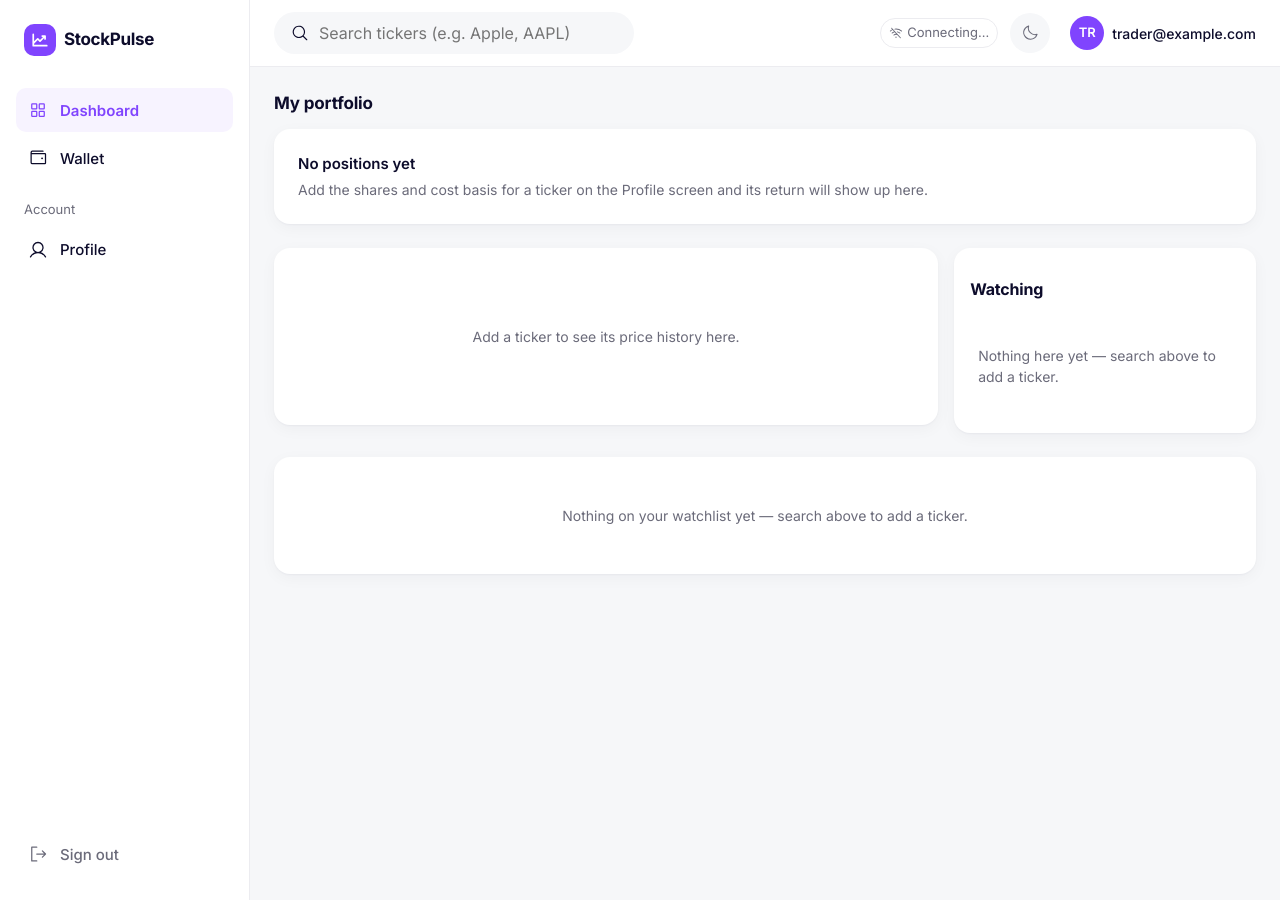
Test: App — search and add to watchlist › adds a searched ticker to the watchlist when clicked
Expected: the text "Nothing on your watchlist yet" is shown, [562, 506, 968, 524]
Step 1. Type "apple" into the field named "search for a stock ticker" → [467, 33], box [317, 21, 617, 45]
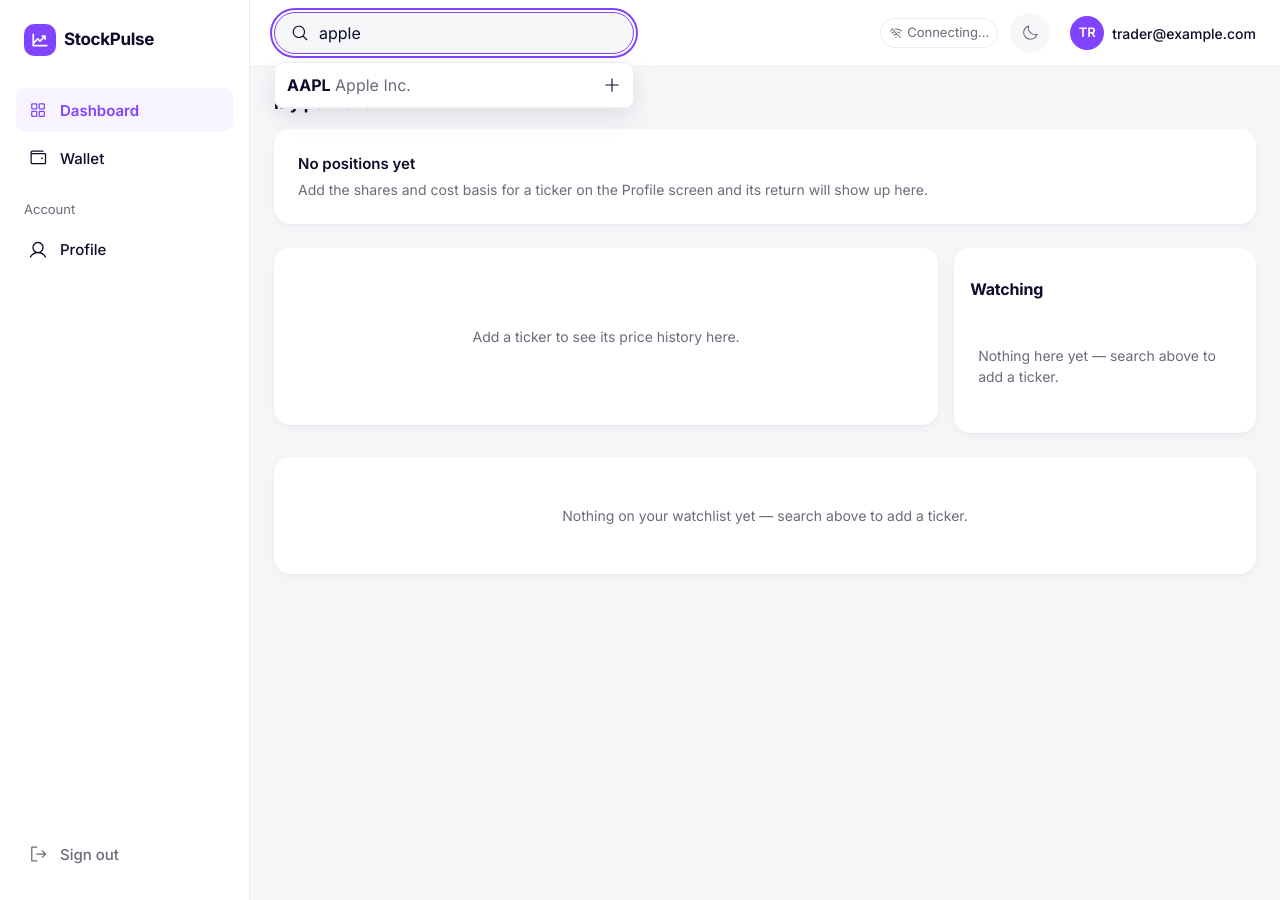
Expected: the button "AAPL Apple Inc." is shown
Step 2. Click the button "AAPL Apple Inc." → [309, 85], box [275, 63, 633, 108]
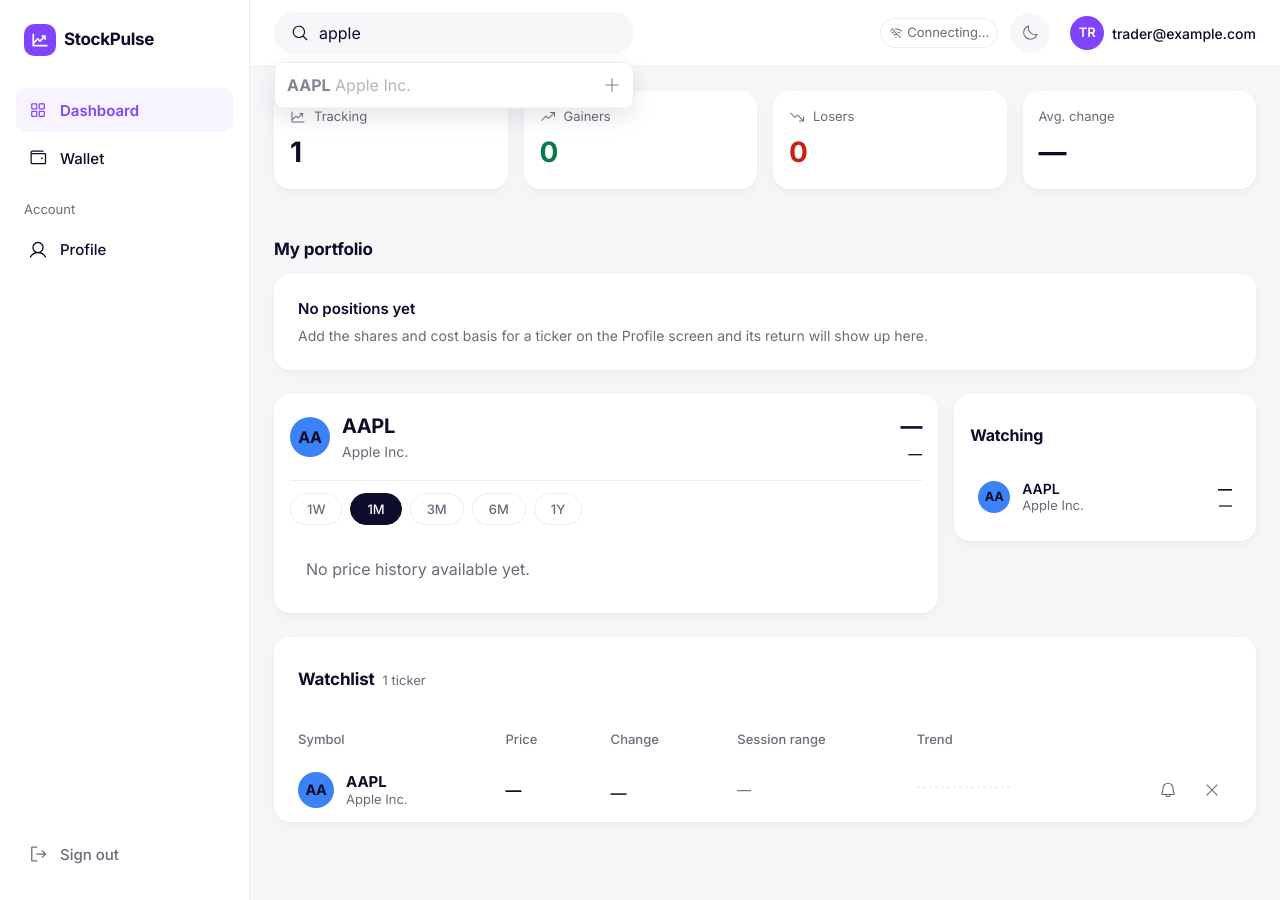
Expected: the 1st text "AAPL" is shown, [287, 75, 330, 95]
Expected: the text "Nothing on your watchlist yet" is gone
